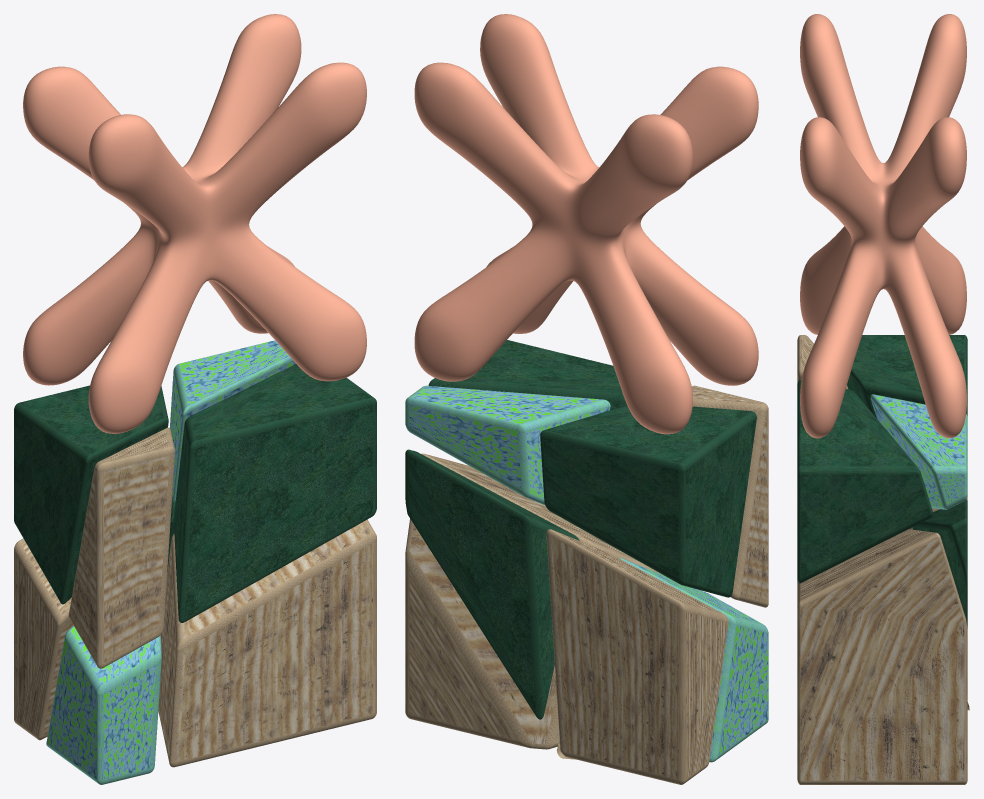
The picture shows the model from 3 angles, left to right: view 1: azimuth 30°, elevation 25°; view 2: azimuth 150°, elevation 25°; view 3: azimuth 270°, elevation 25°; orthographic projection.
Parts seen in each view (by area): view 1: Exploded Mesh, Parts of cube 03, Parts of cube 01, Parts of cube 02; view 2: Exploded Mesh, Parts of cube 03, Parts of cube 01, Parts of cube 02; view 3: Exploded Mesh, Parts of cube 03, Parts of cube 01, Parts of cube 02.
Part boxes in pixels (bbox=[...]): Exploded Mesh: bbox=[23, 14, 366, 433]; Parts of cube 03: bbox=[14, 427, 376, 767]; Parts of cube 01: bbox=[14, 364, 376, 622]; Parts of cube 02: bbox=[46, 340, 295, 784]; Exploded Mesh: bbox=[414, 14, 758, 434]; Parts of cube 03: bbox=[405, 385, 768, 784]; Parts of cube 01: bbox=[405, 340, 756, 719]; Parts of cube 02: bbox=[405, 385, 768, 762]; Exploded Mesh: bbox=[800, 14, 966, 438]; Parts of cube 03: bbox=[797, 335, 969, 784]; Parts of cube 01: bbox=[797, 335, 967, 628]; Parts of cube 02: bbox=[870, 394, 967, 509].
Size of the model in its own units: 0.2683 by 0.5998 by 0.1443.
4 materials, 3 textured.
